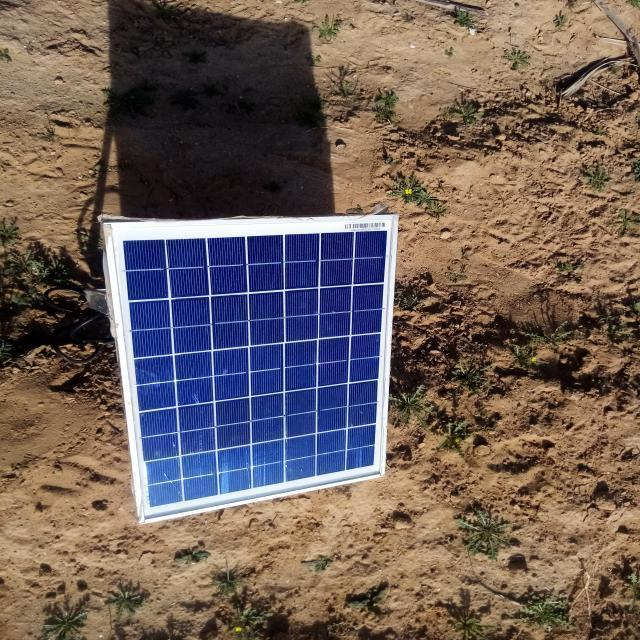Normal Solar Panel: (106, 215, 399, 522)
